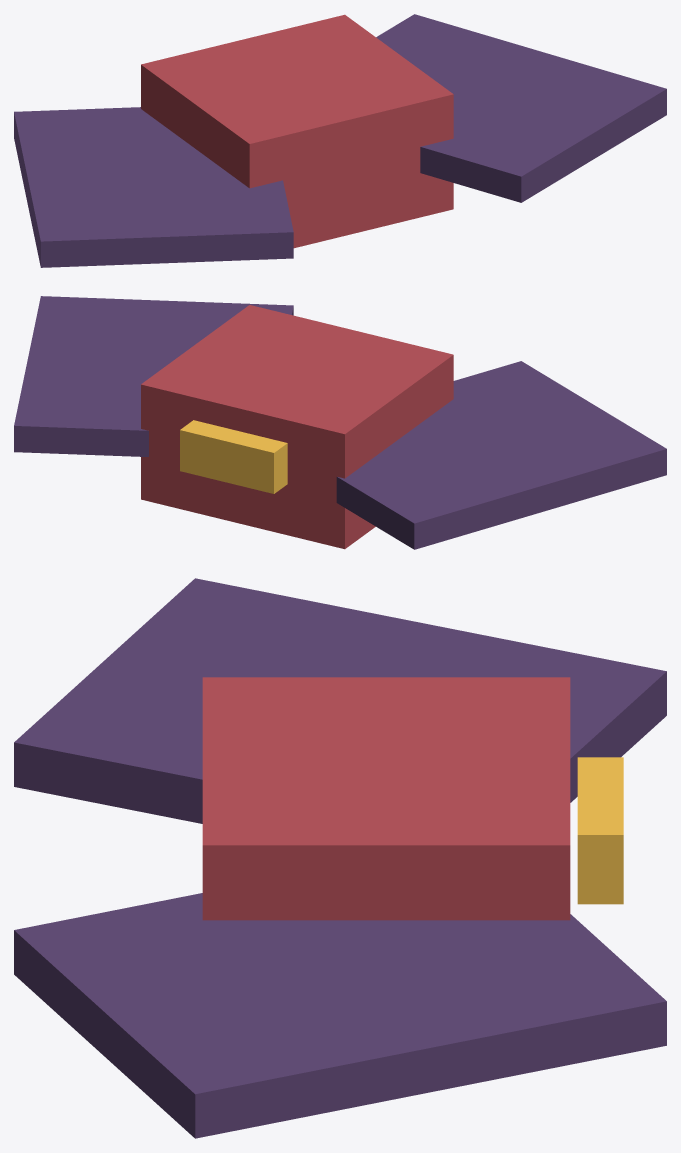
Rendered from drone.glb.
The picture shows the model from 3 angles, top to bottom: view 1: azimuth 30°, elevation 25°; view 2: azimuth 150°, elevation 25°; view 3: azimuth 270°, elevation 25°; orthographic projection. The views are drawn at different scales.
Parts seen in each view (by area): view 1: Blade (×2), Core; view 2: Blade (×2), Core, Eye; view 3: Blade (×2), Core, Eye.
Boxes of the visible parts, x1=… form: Blade (×2): x1=14, y1=14, x2=666, y2=267; Core: x1=141, y1=14, x2=453, y2=248; Blade (×2): x1=14, y1=296, x2=666, y2=549; Core: x1=141, y1=305, x2=453, y2=549; Eye: x1=180, y1=420, x2=287, y2=493; Blade (×2): x1=14, y1=578, x2=666, y2=1138; Core: x1=202, y1=677, x2=570, y2=920; Eye: x1=577, y1=757, x2=623, y2=904.
Bounding box in the file's own units: 3.99 × 0.7 × 2.13.
